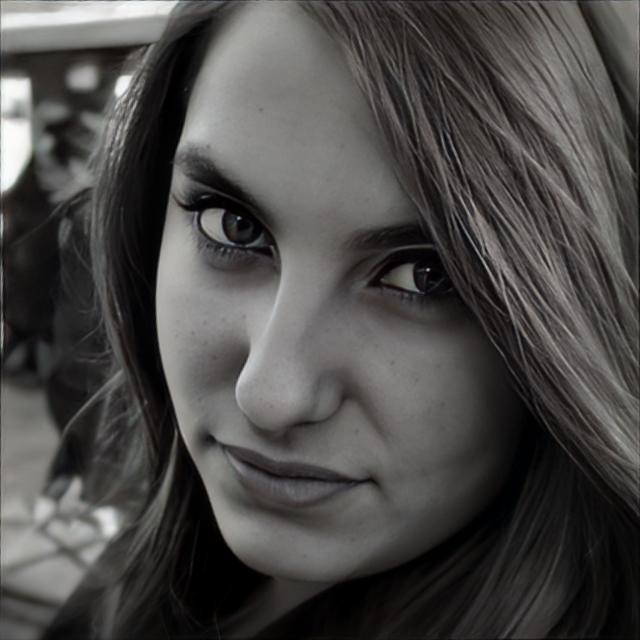content: (157, 0, 539, 582)
